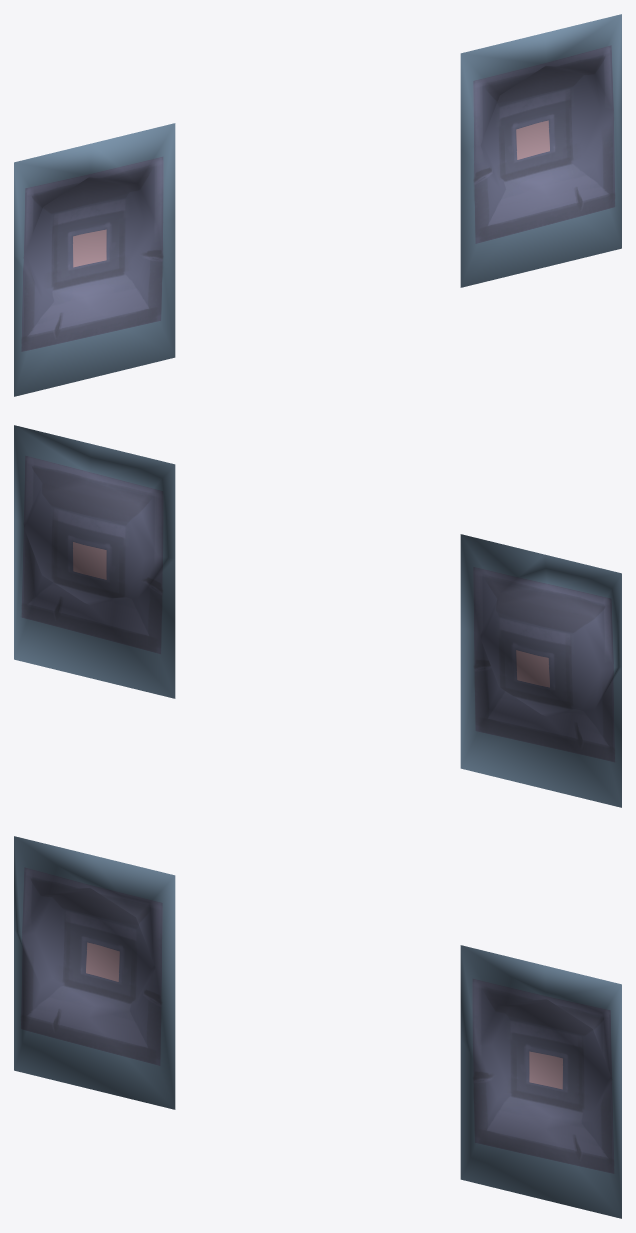
The model's file is boombox_speakerheads.fbx.
The picture shows the model from 3 angles, top to bottom: view 1: azimuth 30°, elevation 25°; view 2: azimuth 150°, elevation 25°; view 3: azimuth 330°, elevation 25°; orthographic projection.
Visible parts, largest first — view 1: boombox_speakerheads; view 2: boombox_speakerheads; view 3: boombox_speakerheads.
Boxes of the visible parts, <box> form: boombox_speakerheads: <box>14,14,621,396</box>; boombox_speakerheads: <box>14,425,621,807</box>; boombox_speakerheads: <box>14,836,621,1218</box>.
Size of the model in its own units: 0.0107 by 0.00394 by 0.000257.
